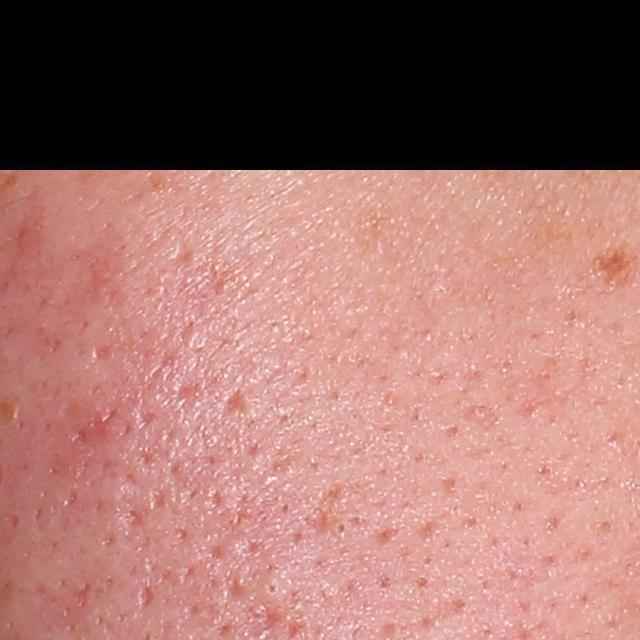atrophic_scar: (219, 386, 256, 421), (133, 583, 154, 612)
comedo: (329, 518, 352, 542), (260, 577, 282, 598)
melasma: (590, 243, 637, 298)
